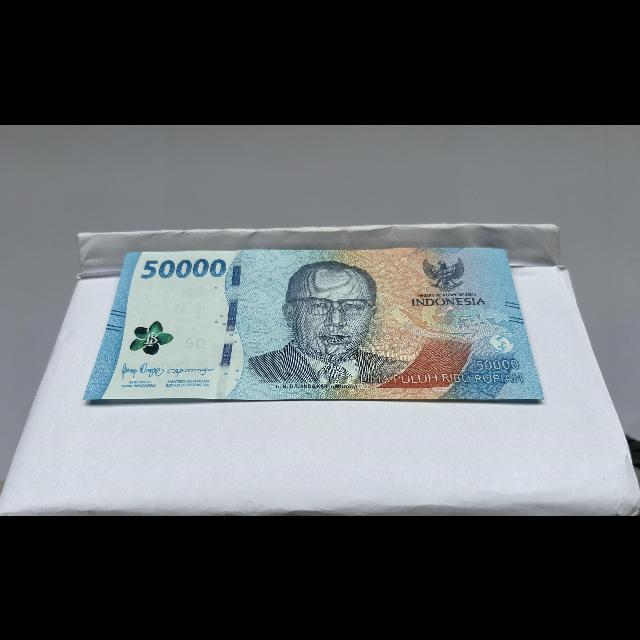Asli-50k: (81, 246, 547, 405)
Tinta-Asli-50k: (126, 314, 181, 359)
